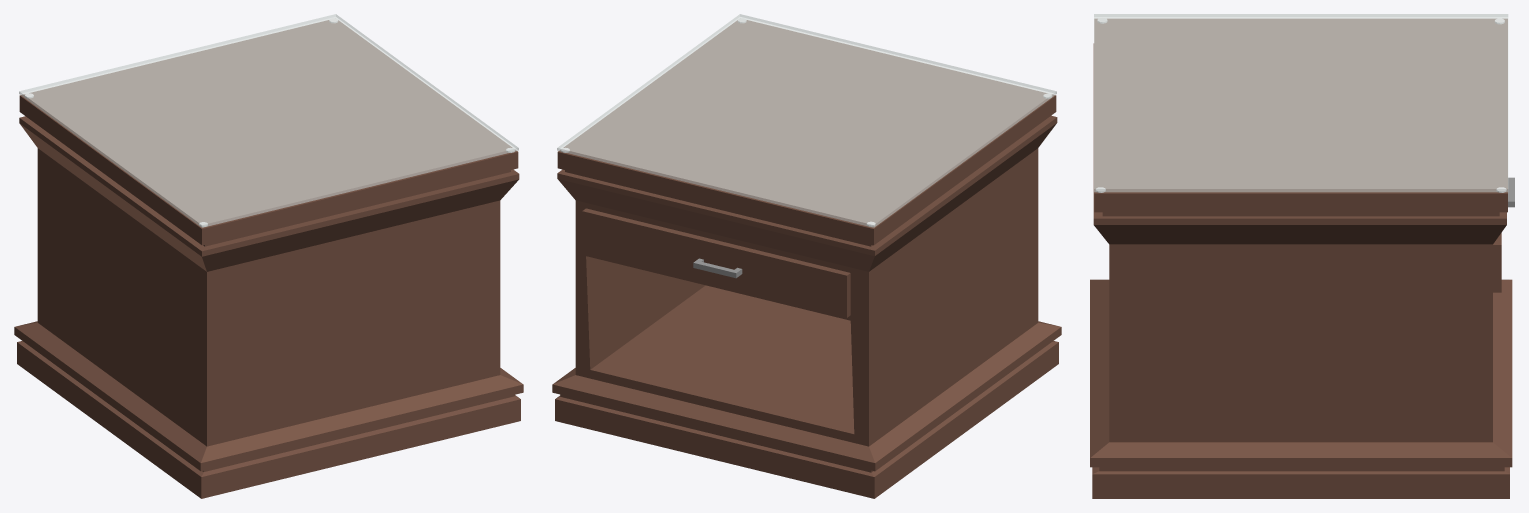
The model's file is Vintage Corner Table.glb.
3 views of the same model, side by side, from view 1: azimuth 30°, elevation 25°; view 2: azimuth 150°, elevation 25°; view 3: azimuth 270°, elevation 25° (orthographic). The views are drawn at different scales.
Parts seen in each view (by area): view 1: Node; view 2: Node; view 3: Node.
Boxes of the visible parts, <box> form: Node: <box>14,14,523,498</box>; Node: <box>552,14,1061,498</box>; Node: <box>1090,14,1514,498</box>.
Bounding box in the file's own units: 2.47 × 2 × 2.49.
